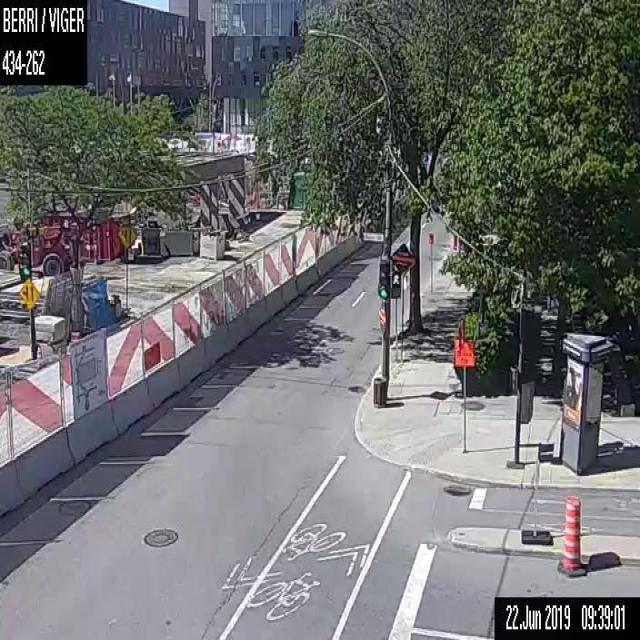construction: (0, 130, 398, 510), (452, 312, 478, 452), (556, 493, 586, 576), (69, 328, 82, 341), (35, 345, 43, 362)
